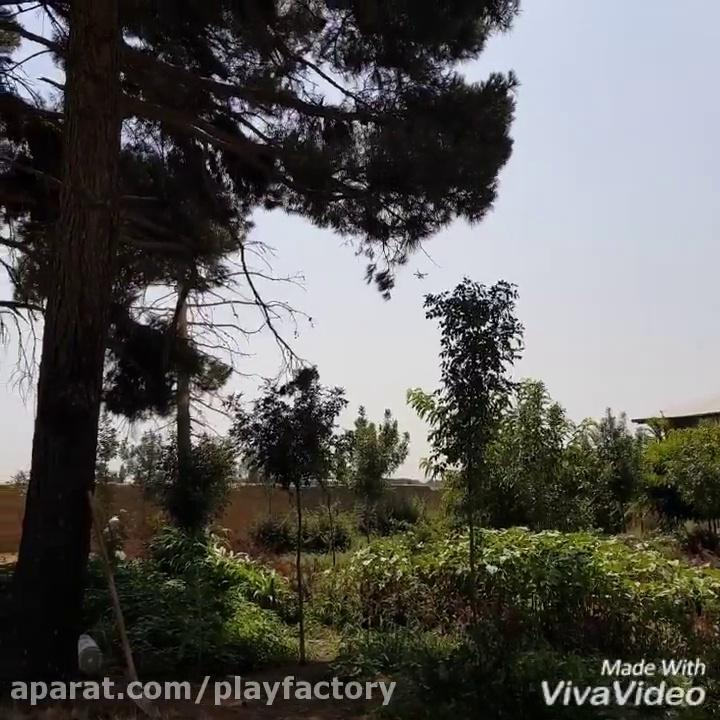drone: (412, 268, 429, 281)
